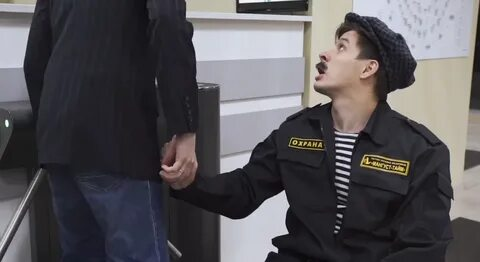awake: (252, 11, 456, 262), (21, 1, 201, 261)
